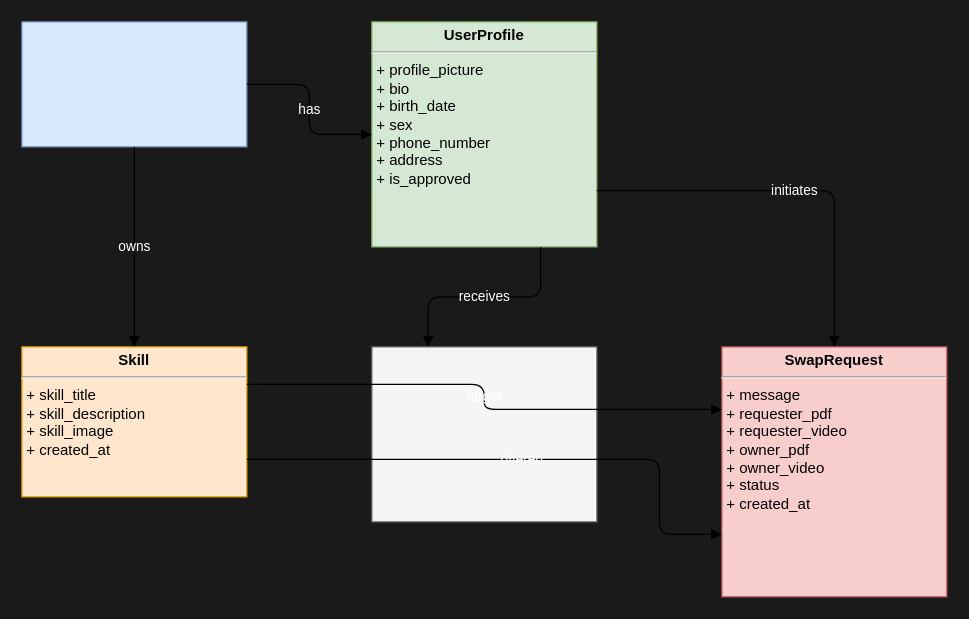
This 969x619 diagram has some shape labels left out. The box of each missing label's shape, as (x1, y1, x2, y2) in pixels:
Notification + title + message + notification_type + is_read + created_at: (371, 346, 597, 522)
User (Core) + username + email + password: (21, 21, 247, 147)
